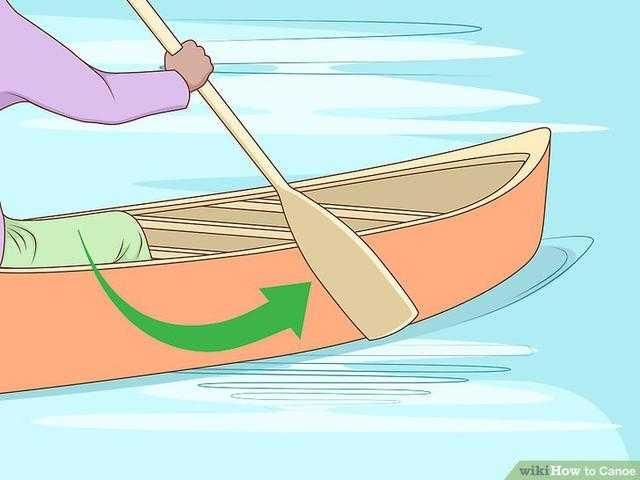kayak: (3, 1, 561, 403)
